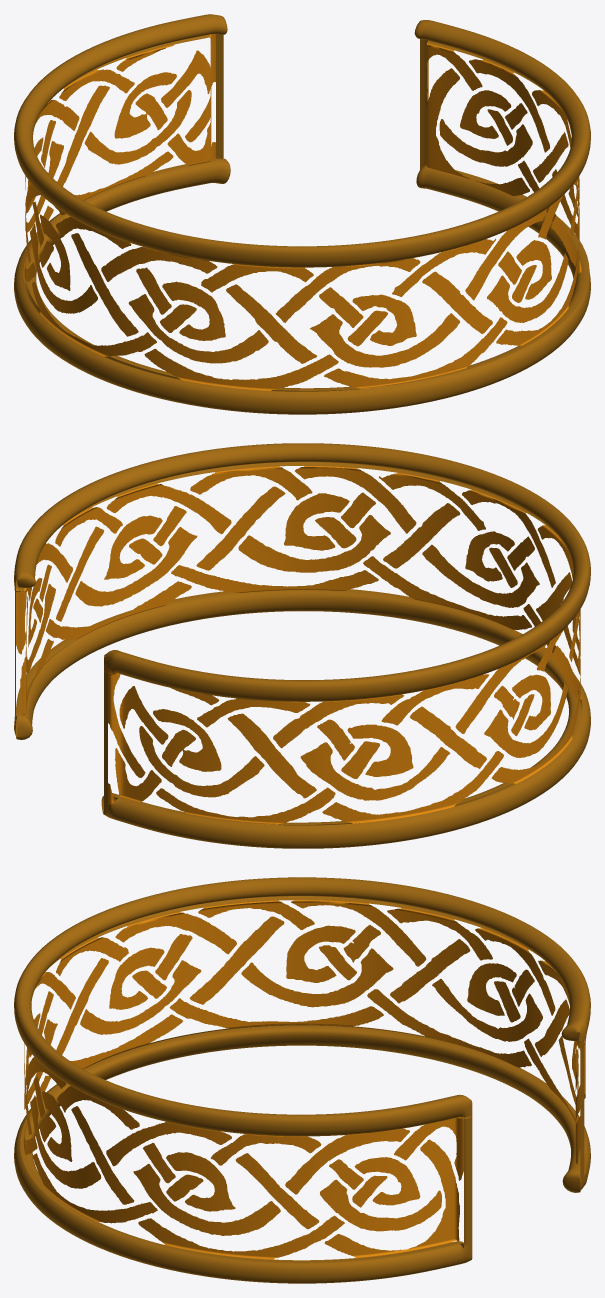
File: bracelet.glb
The picture shows the model from 3 angles, top to bottom: view 1: azimuth 30°, elevation 25°; view 2: azimuth 150°, elevation 25°; view 3: azimuth 270°, elevation 25°; orthographic projection.
Visible parts, largest first — view 1: Circle (×2); view 2: Circle (×2); view 3: Circle (×2).
Boxes of the visible parts, left/top/right/bottom form: Circle (×2): left=14, top=14, right=590, bottom=414; Circle (×2): left=14, top=443, right=590, bottom=848; Circle (×2): left=14, top=877, right=590, bottom=1283.
Size of the model in its own units: 1.98 by 0.6396 by 1.98.
Materials: 2 (1 with a texture image).
